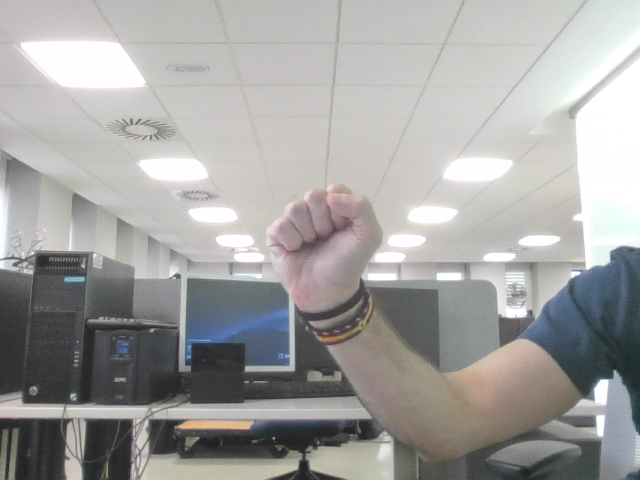Puño: (283, 193, 364, 270)
